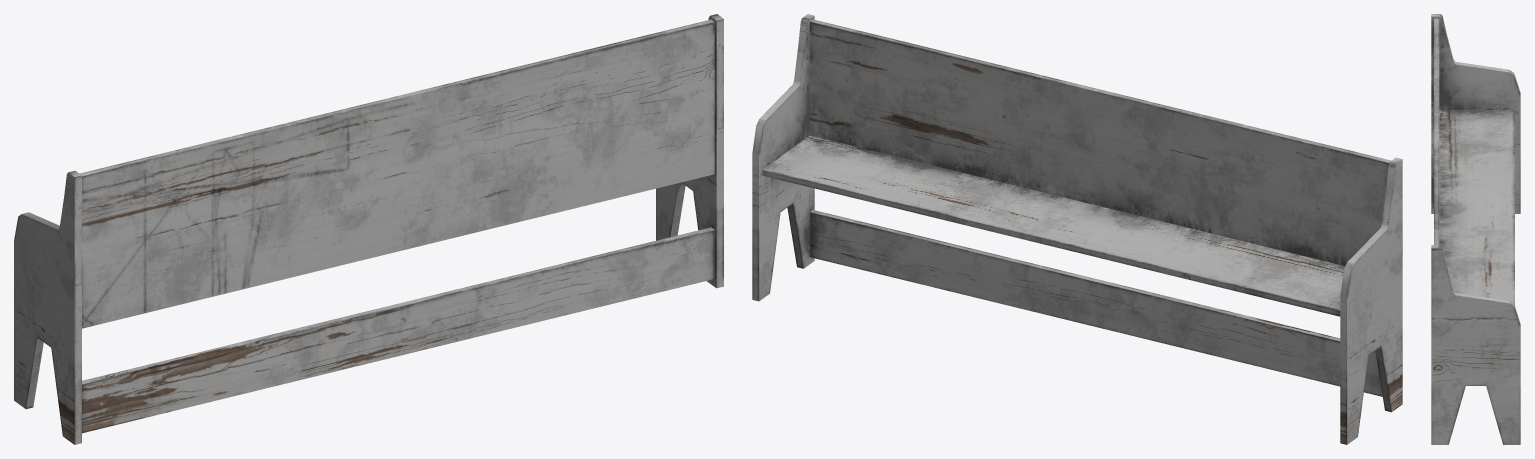
Rendered from Bench_AA.fbx.
The picture shows the model from 3 angles, left to right: view 1: azimuth 30°, elevation 25°; view 2: azimuth 150°, elevation 25°; view 3: azimuth 270°, elevation 25°; orthographic projection. The views are drawn at different scales.
Parts seen in each view (by area): view 1: Bench_AA; view 2: Bench_AA; view 3: Bench_AA.
Part boxes in pixels (left/top/right/bottom): Bench_AA: left=14, top=14, right=723, bottom=444; Bench_AA: left=752, top=14, right=1402, bottom=444; Bench_AA: left=1431, top=14, right=1520, bottom=444.
Size of the model in its own units: 1.75 by 0.2834 by 0.6915.
1 material, 1 textured.
